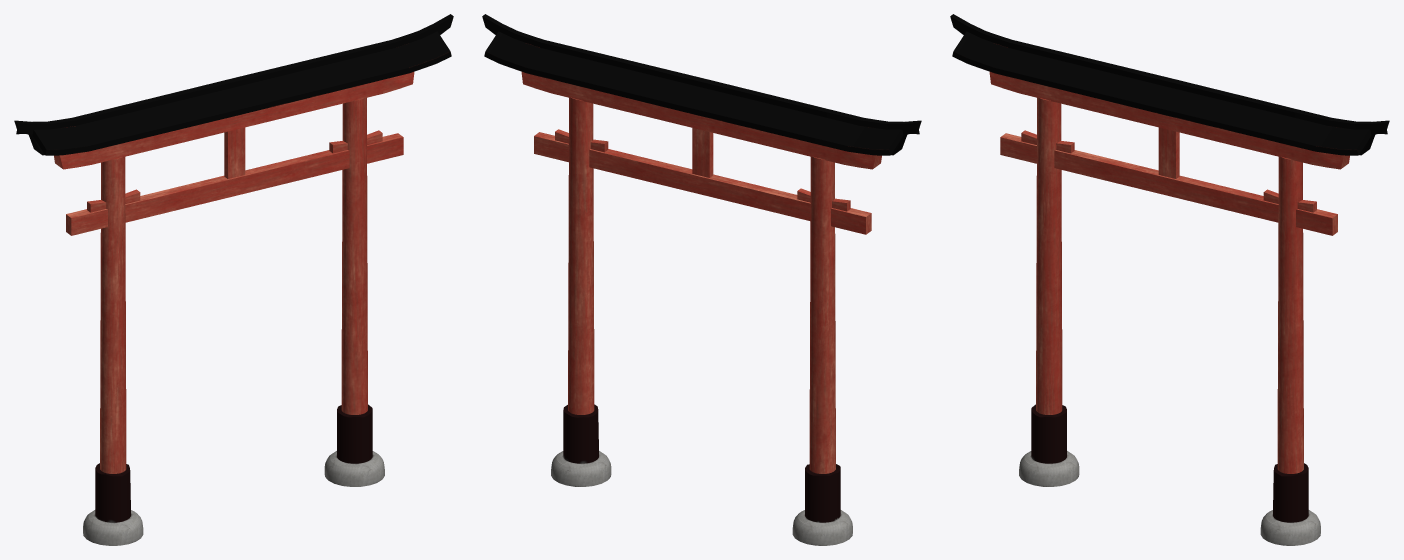
The model's file is torii.glb.
3 renders of one model, left to right at view 1: azimuth 30°, elevation 25°; view 2: azimuth 150°, elevation 25°; view 3: azimuth 330°, elevation 25°, orthographic.
Parts seen in each view (by area): view 1: torii_column, torii_roof, torii_wood_detail, torii_roof_base; view 2: torii_column, torii_roof, torii_wood_detail, torii_roof_base; view 3: torii_column, torii_roof, torii_wood_detail, torii_roof_base.
Part boxes in pixels (box(x1,y1,x2,y2)): torii_column: box(83, 98, 384, 545); torii_roof: box(14, 14, 453, 155); torii_wood_detail: box(66, 127, 403, 235); torii_roof_base: box(54, 72, 414, 169); torii_column: box(551, 97, 852, 545); torii_roof: box(482, 14, 921, 155); torii_wood_detail: box(534, 128, 871, 234); torii_roof_base: box(521, 72, 881, 169); torii_column: box(1019, 98, 1320, 545); torii_roof: box(950, 14, 1389, 155); torii_wood_detail: box(1000, 127, 1337, 235); torii_roof_base: box(989, 72, 1349, 169).
Size of the model in its own units: 3.61 by 3.44 by 0.4363.
1 material, 1 textured.
